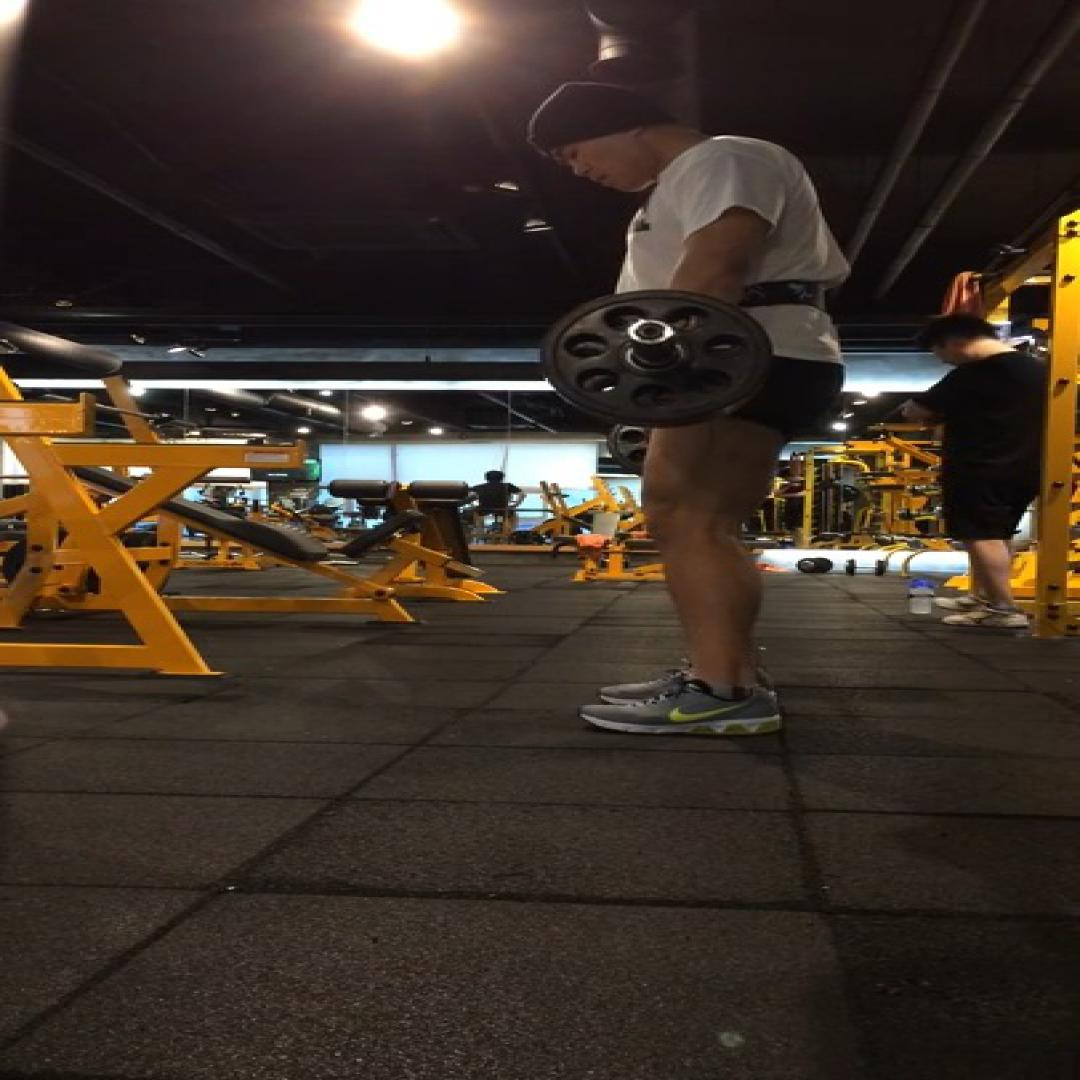Bar: (625, 316, 678, 346)
Barbell: (537, 288, 774, 428)
